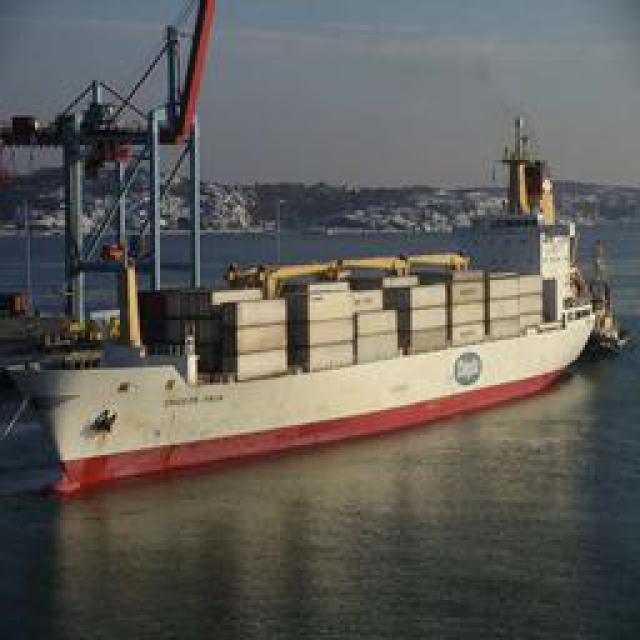Ship: (16, 96, 616, 504)
